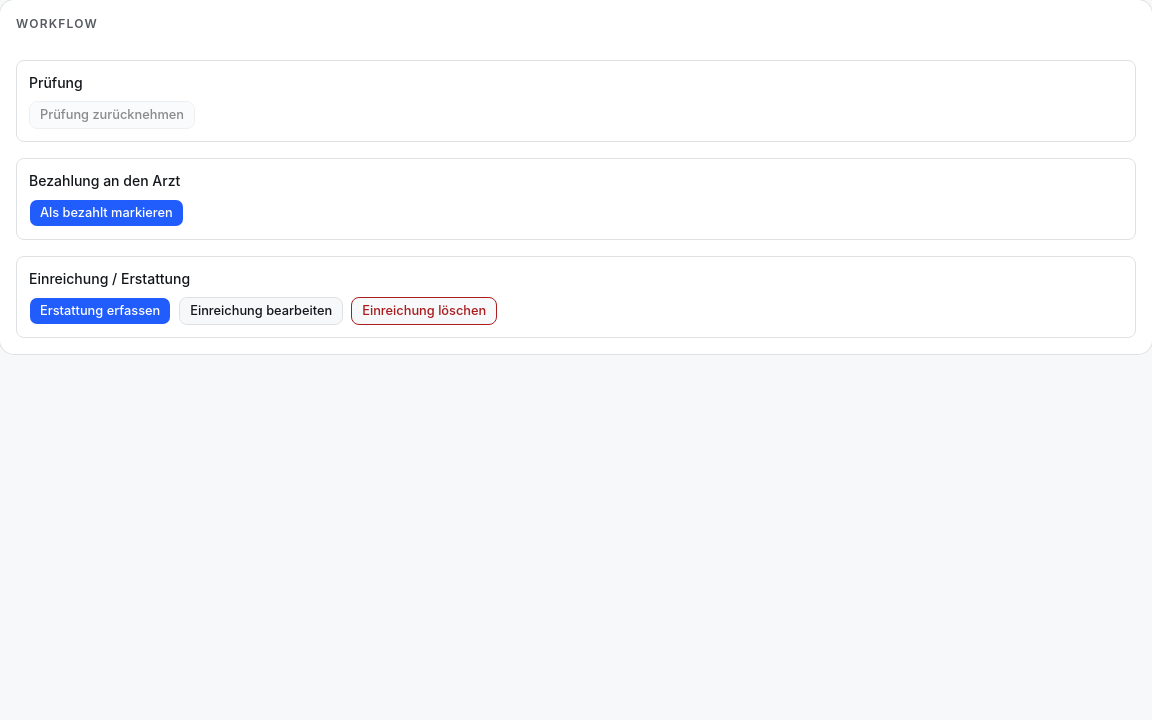
InvoiceStatusFlow — history & errors › shows "Keine Positionen vorhanden" in refund form when invoice has no positions
Click the button "Erstattung erfassen".
click(100, 311)  # box [29, 297, 171, 325]
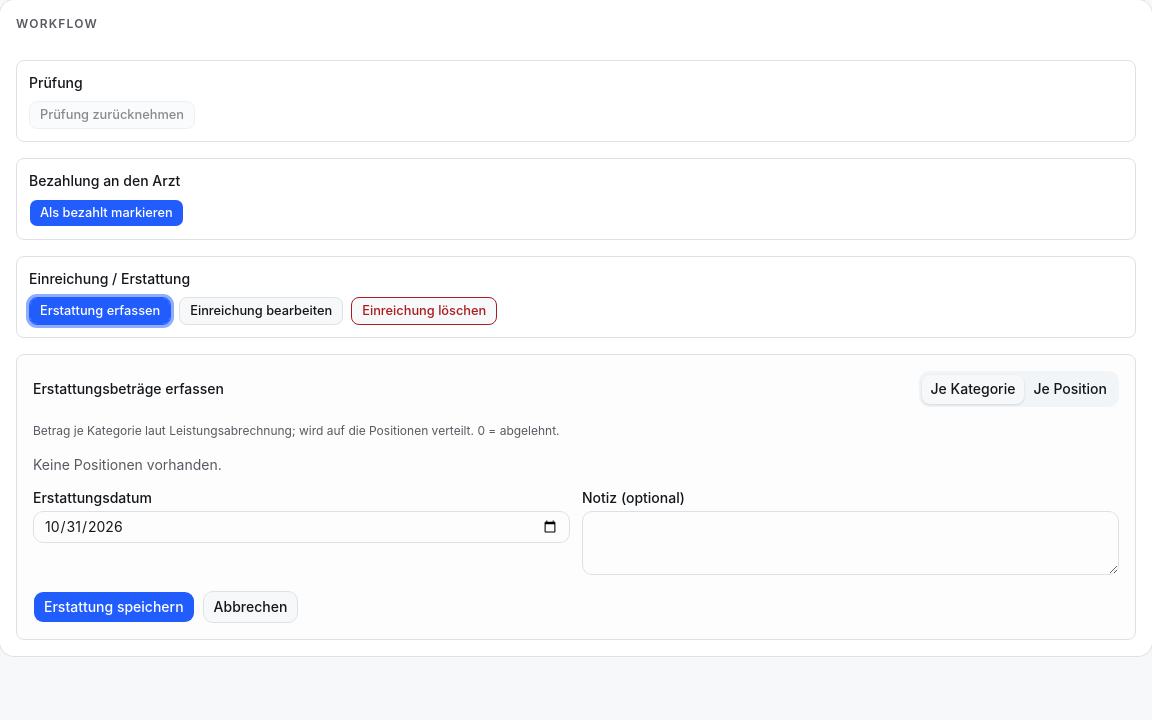
Now the text "Keine Positionen vorhanden." is shown, box [33, 456, 222, 473]
